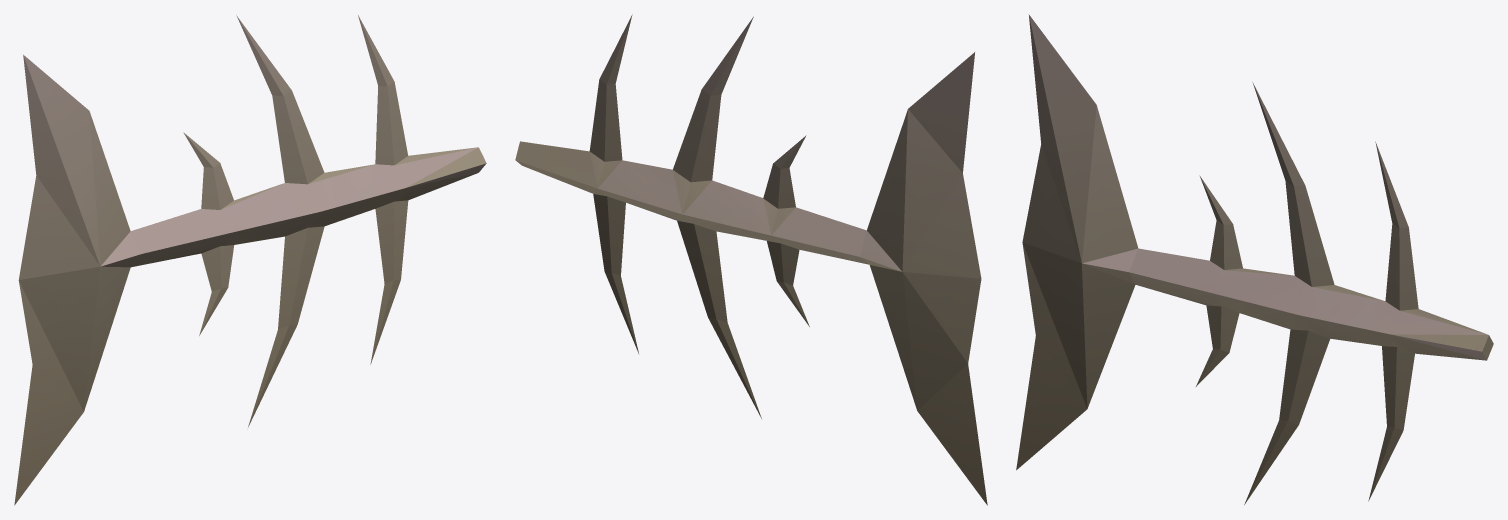
Rendered from bone_02.FBX.
3 views of the same model, side by side, from view 1: azimuth 30°, elevation 25°; view 2: azimuth 150°, elevation 25°; view 3: azimuth 330°, elevation 25° (orthographic). The views are drawn at different scales.
Parts seen in each view (by area): view 1: bone_02; view 2: bone_02; view 3: bone_02.
Part boxes in pixels (x1,y1,x2,y2): bone_02: (14, 15, 486, 505); bone_02: (515, 14, 987, 505); bone_02: (1016, 14, 1493, 504).
Size of the model in its own units: 2.34 by 2.16 by 0.2478.
Materials: 1 (1 with a texture image).
